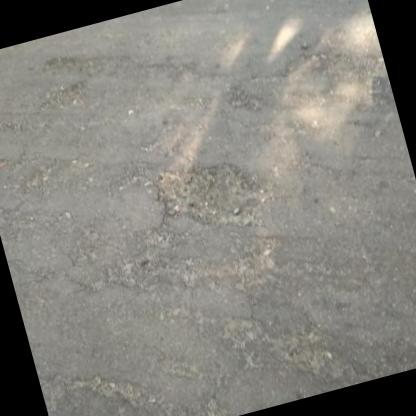pothole: (143, 138, 283, 249)
